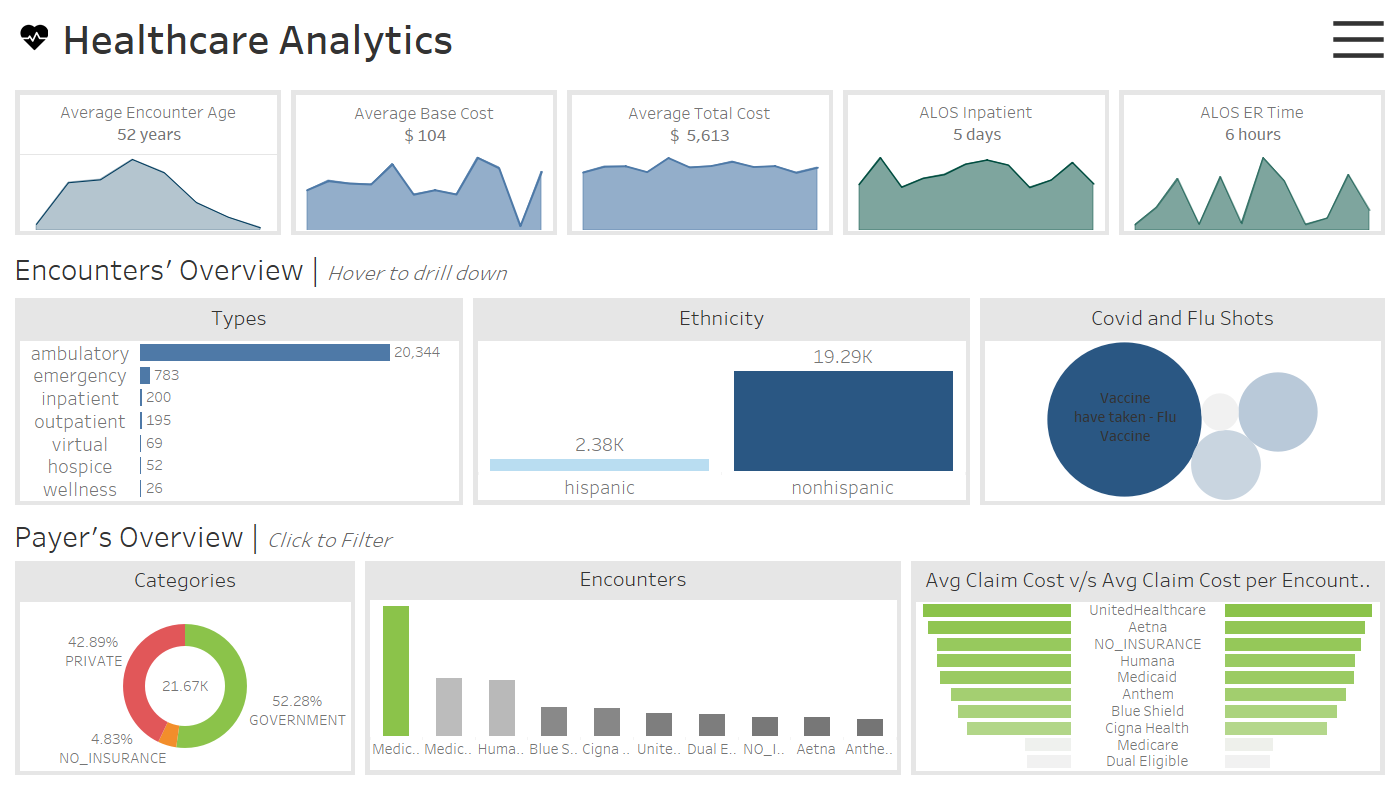

Layout of this report page (visuals, bound fields, positions):
{"tool":"tableau","page":{"name":"Dashboard 1","canvas":[1400,800],"ordinal":0},"visuals":[{"type":"image","param":"C:/Users/Animesh/OneDrive - University of Texas at Arlington/Desktop/Andy/Tablea","box":[0,0,1400,800]},{"type":"image","param":"C:/Users/Animesh/OneDrive - University of Texas at Arlington/Desktop/Andy/Tablea","box":[10,10,107,55]},{"type":"text","box":[117,10,524,55]},{"type":"filter","title":"Age Distribution","param":"[federated.14qyzbn0dxbjnm19siz101488xsi].[none:Calculation_1652539653354577924:q","box":[641,10,330,55]},{"type":"filter","title":"Age Distribution","param":"[federated.14qyzbn0dxbjnm19siz101488xsi].[none:payer:nk]","box":[971,10,191,55]},{"type":"filter","title":"Age Distribution","param":"[federated.14qyzbn0dxbjnm19siz101488xsi].[none:org_city:nk]","box":[1162,10,160,55]},{"type":"blank","box":[1322,10,68,55]},{"type":"dashboard-object","box":[1330,12,57,55]},{"type":"worksheet","title":"BAN Average Encounter Age","mark":"Text","box":[20,95,256,50]},{"type":"worksheet","title":"BAN Average Base Cost","mark":"Text","box":[296,95,256,58]},{"type":"worksheet","title":"BAN Average Total Cost","mark":"Text","box":[572,95,256,58]},{"type":"worksheet","title":"Average Inpatient Time","mark":"Text","box":[848,95,256,58]},{"type":"worksheet","title":"Average ER Time","mark":"Text","box":[1124,95,256,58]},{"type":"worksheet","title":"Age Distribution","mark":"Line","rows":["Calculation_1652539653354577924","Calculation_1652539653354577924"],"cols":["Age (bin)"],"box":[20,145,256,85]},{"type":"worksheet","title":"Average Base Cost by Month","mark":"Line","rows":["base_encounter_cost","base_encounter_cost"],"cols":["start"],"box":[296,153,256,77]},{"type":"worksheet","title":"Average Total Cost by Month","mark":"Area","rows":["total_claim_cost","total_claim_cost"],"cols":["start"],"box":[572,153,256,77]},{"type":"worksheet","title":"Average Inpatient Time by Month","mark":"Line","rows":["Calculation_1652539653360046087","Calculation_1652539653360046087"],"cols":["start"],"box":[848,153,256,77]},{"type":"worksheet","title":"Average Inpatient Time by Month (2)","mark":"Area","rows":["Time Spent (copy)_1652539653362077704","Time Spent (copy)_1652539653362077704"],"cols":["start"],"box":[1124,153,256,77]},{"type":"text","box":[10,250,1380,43]},{"type":"text","box":[15,298,448,38]},{"type":"text","box":[473,298,497,38]},{"type":"text","box":[980,298,405,38]},{"type":"worksheet","title":"Encounters by Class","mark":"Bar","rows":["encounterclass"],"cols":["master_F0781F8017CC409BA2DDB44D6511002A"],"box":[15,336,448,169]},{"type":"worksheet","title":"Ethnicity Distribution","mark":"Bar","rows":["master_F0781F8017CC409BA2DDB44D6511002A"],"cols":["ethnicity"],"box":[473,336,497,169]},{"type":"worksheet","title":"Total Cost and Encounters by Vaccines Taken","mark":"Circle","box":[980,336,405,169]},{"type":"text","box":[10,520,1380,36]},{"type":"text","box":[15,561,340,36]},{"type":"text","box":[365,561,536,34]},{"type":"text","box":[911,561,474,36]},{"type":"worksheet","title":"Encounters by Payers","mark":"Bar","rows":["master_F0781F8017CC409BA2DDB44D6511002A"],"cols":["payer"],"box":[365,595,536,180]},{"type":"worksheet","title":"Encounters by Payer Category","mark":"Pie","rows":["Calculation_1652539653353136131","Calculation_1652539653353136131"],"box":[15,597,340,178]},{"type":"worksheet","title":"Payer Avg Claim Cost vs Avg Claim Cost per encounter","mark":"Automatic","rows":["payer"],"cols":["total_claim_cost","Calculation_1652539653387419662","Calculation_1652539653388648465"],"box":[911,597,474,178]}]}

Visuals, with their boxes in screenshot pixels (x1, y1, x2, y2), scaled from the page's 1400x800 canvas onto the 1400x800 screenshot:
image: BBox(0, 0, 1399, 799)
image: BBox(10, 10, 117, 65)
text: BBox(117, 10, 641, 65)
"Age Distribution" filter: BBox(641, 10, 971, 65)
"Age Distribution" filter: BBox(971, 10, 1162, 65)
"Age Distribution" filter: BBox(1162, 10, 1322, 65)
blank: BBox(1322, 10, 1390, 65)
dashboard-object: BBox(1330, 12, 1387, 67)
"BAN Average Encounter Age" worksheet (Text marks): BBox(20, 95, 276, 145)
"BAN Average Base Cost" worksheet (Text marks): BBox(296, 95, 552, 153)
"BAN Average Total Cost" worksheet (Text marks): BBox(572, 95, 828, 153)
"Average Inpatient Time" worksheet (Text marks): BBox(848, 95, 1104, 153)
"Average ER Time" worksheet (Text marks): BBox(1124, 95, 1380, 153)
"Age Distribution" worksheet (Line marks): BBox(20, 145, 276, 230)
"Average Base Cost by Month" worksheet (Line marks): BBox(296, 153, 552, 230)
"Average Total Cost by Month" worksheet (Area marks): BBox(572, 153, 828, 230)
"Average Inpatient Time by Month" worksheet (Line marks): BBox(848, 153, 1104, 230)
"Average Inpatient Time by Month (2)" worksheet (Area marks): BBox(1124, 153, 1380, 230)
text: BBox(10, 250, 1390, 293)
text: BBox(15, 298, 463, 336)
text: BBox(473, 298, 970, 336)
text: BBox(980, 298, 1385, 336)
"Encounters by Class" worksheet (Bar marks): BBox(15, 336, 463, 505)
"Ethnicity Distribution" worksheet (Bar marks): BBox(473, 336, 970, 505)
"Total Cost and Encounters by Vaccines Taken" worksheet (Circle marks): BBox(980, 336, 1385, 505)
text: BBox(10, 520, 1390, 556)
text: BBox(15, 561, 355, 597)
text: BBox(365, 561, 901, 595)
text: BBox(911, 561, 1385, 597)
"Encounters by Payers" worksheet (Bar marks): BBox(365, 595, 901, 775)
"Encounters by Payer Category" worksheet (Pie marks): BBox(15, 597, 355, 775)
"Payer Avg Claim Cost vs Avg Claim Cost per encounter" worksheet: BBox(911, 597, 1385, 775)
